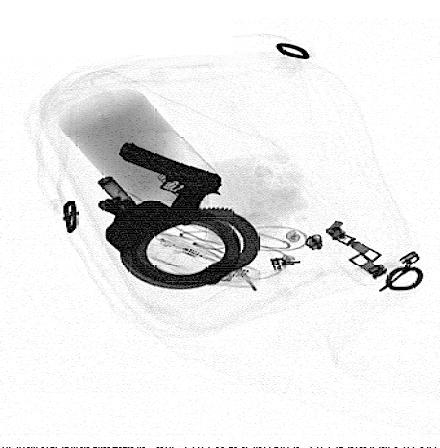Bullet: (99, 175, 152, 223)
Gun: (118, 141, 224, 221)
HandCuffs: (95, 193, 263, 294)
